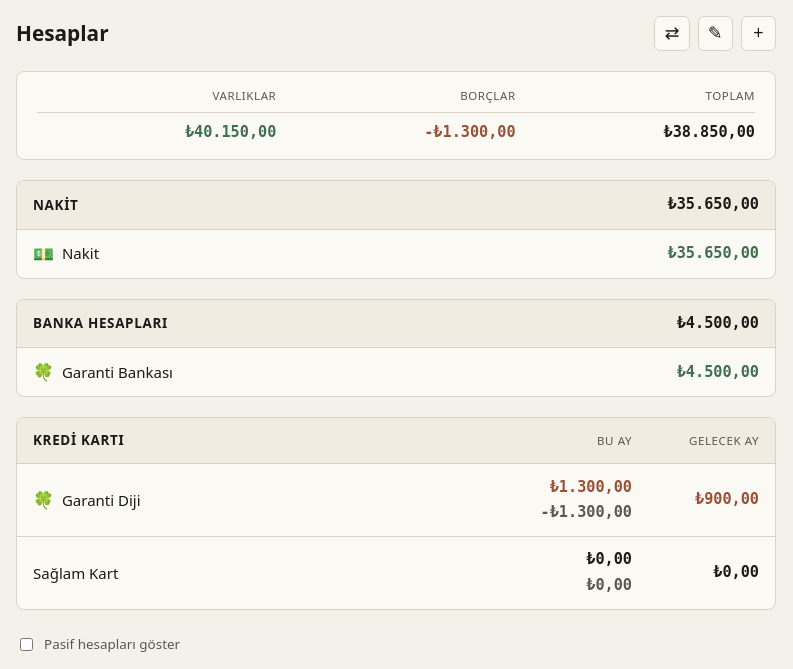
Test: Hesaplar listesi › düzenleme modunda hesaplarda düzenleme düğmesi çıkar
The image size is (793, 669).
What coordinates should you click on to do the following:
click the button named "hesapları düzenle"
I would click on:
 (715, 34)
Its box is [698, 16, 733, 51].
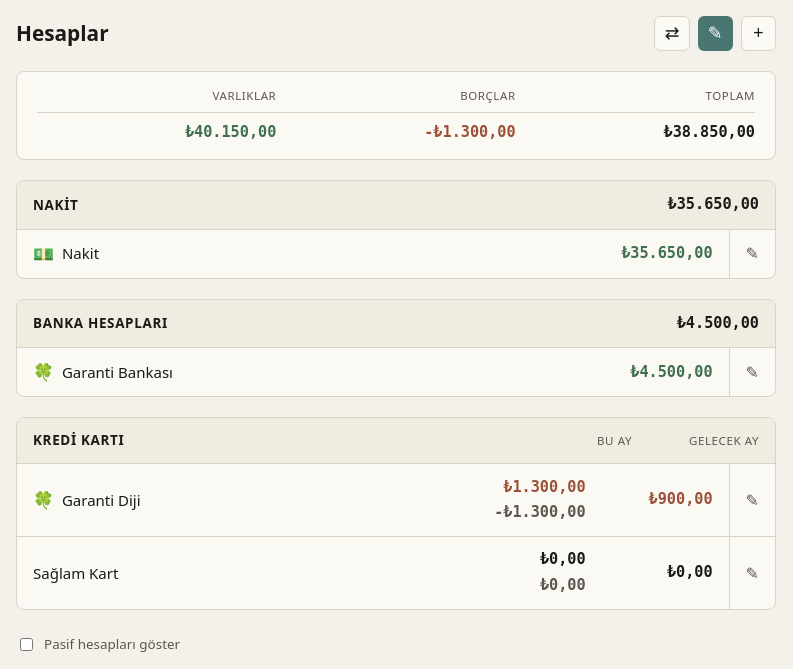
Now the button named "Nakit hesabını düzenle" is shown, box [729, 230, 775, 278]
